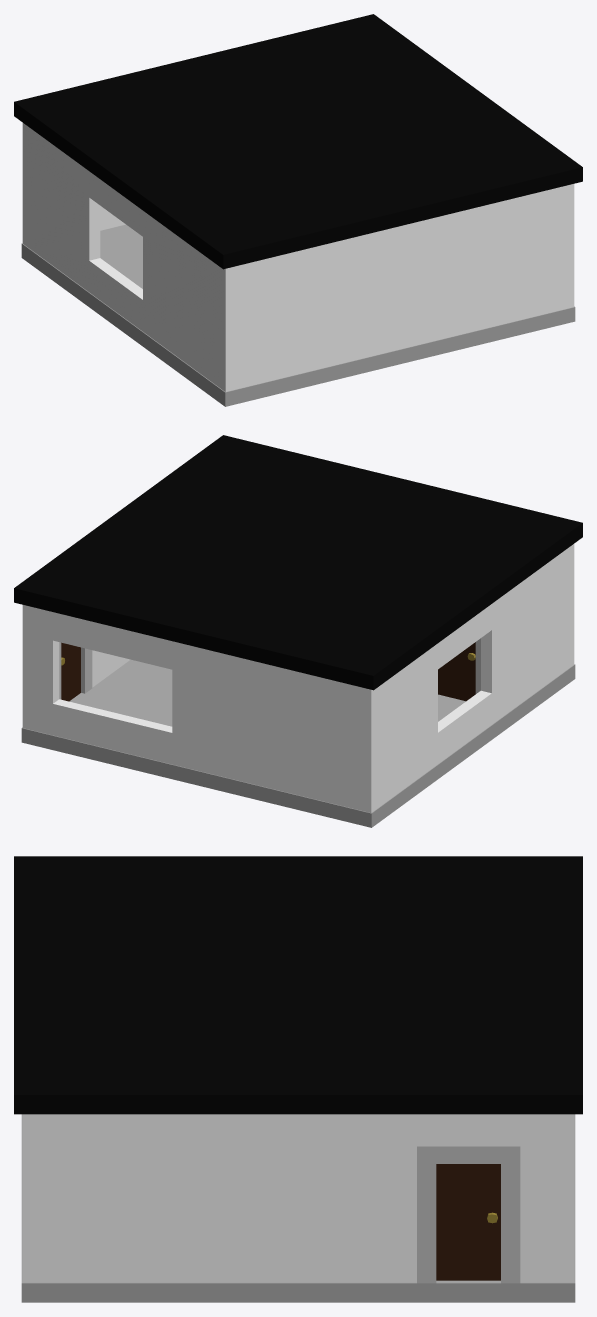
Rendered from Casa2Texturizada.glb.
3 renders of one model, top to bottom at view 1: azimuth 30°, elevation 25°; view 2: azimuth 150°, elevation 25°; view 3: azimuth 270°, elevation 25°, orthographic. The views are drawn at different scales.
Parts seen in each view (by area): view 1: casa2-col; view 2: casa2-col, puerta3-col, puerta1-col; view 3: casa2-col, puerta1-col.
Boxes of the visible parts, x1,y1,x2,y2 form: casa2-col: (14, 14, 582, 406); casa2-col: (14, 435, 582, 827); puerta3-col: (438, 642, 475, 701); puerta1-col: (61, 642, 80, 701); casa2-col: (14, 856, 582, 1302); puerta1-col: (436, 1164, 500, 1280).
Bounding box in the file's own units: 8.19 × 3.38 × 8.25.
Materials: 1 (1 with a texture image).
